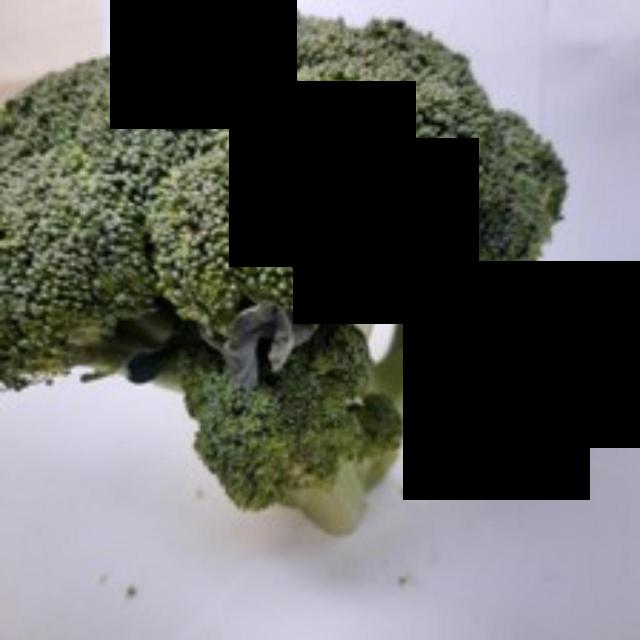broccoli: (1, 0, 571, 562)
